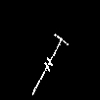treble_crochet: (32, 34, 67, 94)
